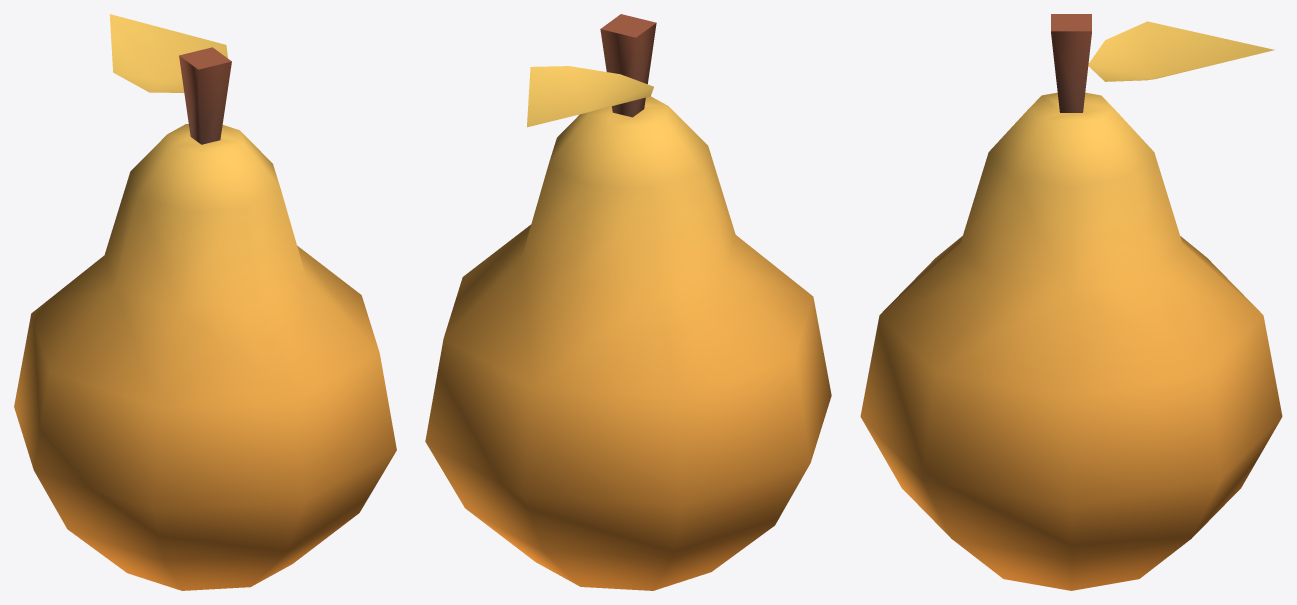
File: pear.glb
3 renders of one model, left to right at view 1: azimuth 30°, elevation 25°; view 2: azimuth 150°, elevation 25°; view 3: azimuth 270°, elevation 25°, orthographic. The views are drawn at different scales.
Visible parts, largest first — view 1: pear; view 2: pear; view 3: pear.
Part boxes in pixels (x1=…): pear: x1=14, y1=14, x2=396, y2=590; pear: x1=425, y1=14, x2=831, y2=590; pear: x1=860, y1=14, x2=1282, y2=590.
Size of the model in its own units: 0.1963 by 0.2708 by 0.1963.
1 material, 1 textured.
